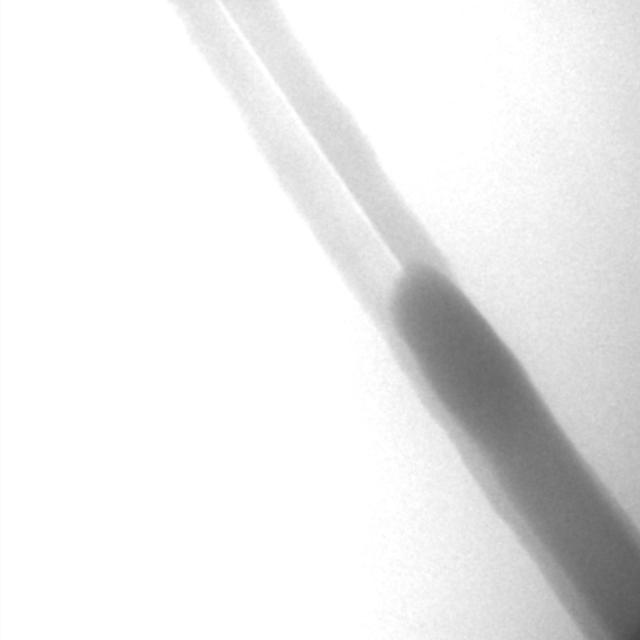broken arc: (217, 2, 402, 271)
